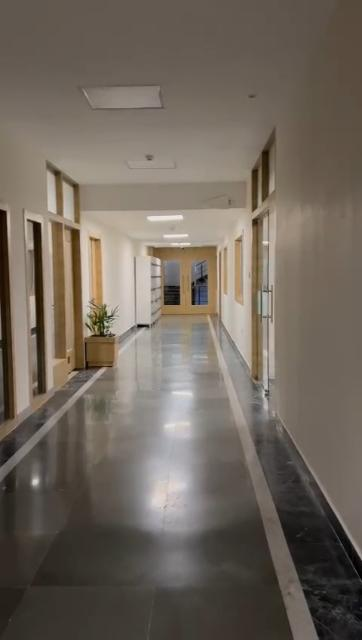door: (251, 155, 277, 385), (163, 245, 219, 317)
floor: (1, 313, 362, 640)
object: (86, 301, 116, 373)
